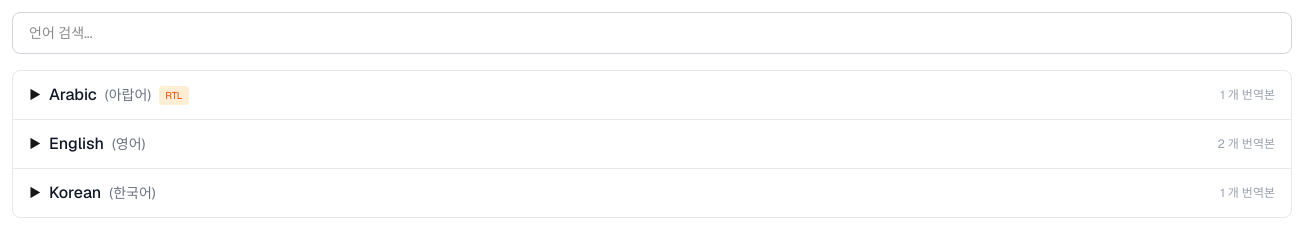
Test case: TranslationBrowser › search/filter translations › filters languages by language name
The width and height of the screenshot is (1304, 235).
Type "English" into the field with placeholder "언어 검색...".
click(652, 33); type("English")  # box [12, 12, 1292, 54]
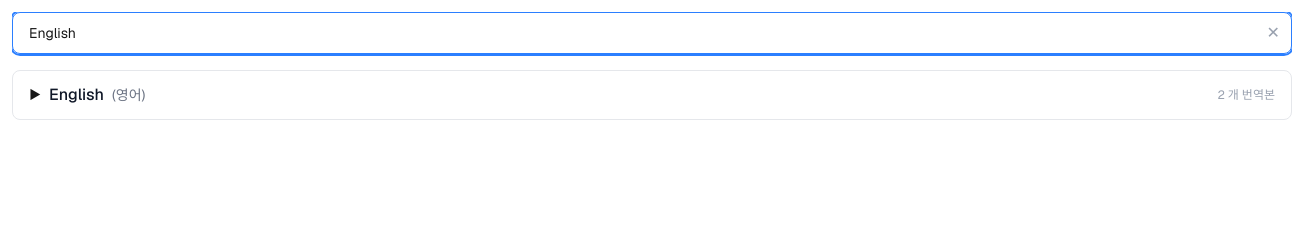
Check: the text "English" is shown, box [49, 83, 104, 107]
Check: the button "Korean" is gone
Check: the button "Arabic" is gone
